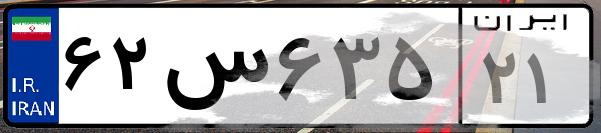1: (525, 38, 570, 115)
2: (475, 38, 525, 113), (110, 28, 158, 98)
3: (330, 28, 385, 110)
5: (385, 28, 445, 110)
6: (270, 28, 330, 110), (57, 26, 110, 100)
س: (158, 20, 270, 120)
